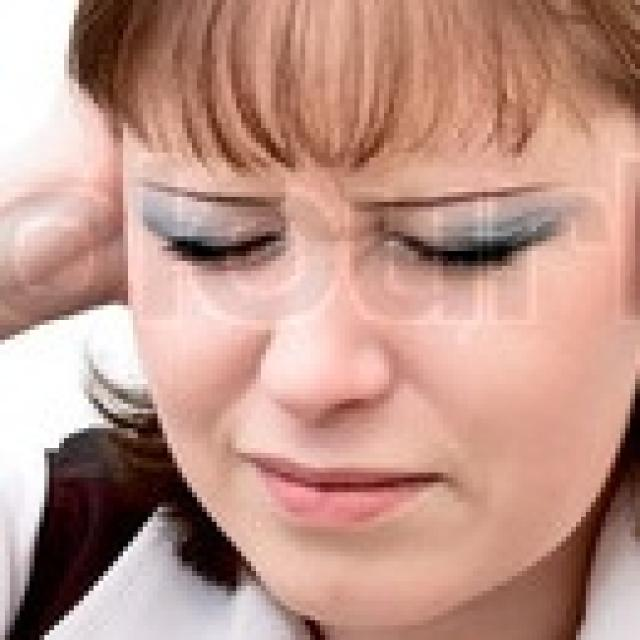Eyeclosed: (390, 218, 538, 281), (156, 220, 280, 280)
